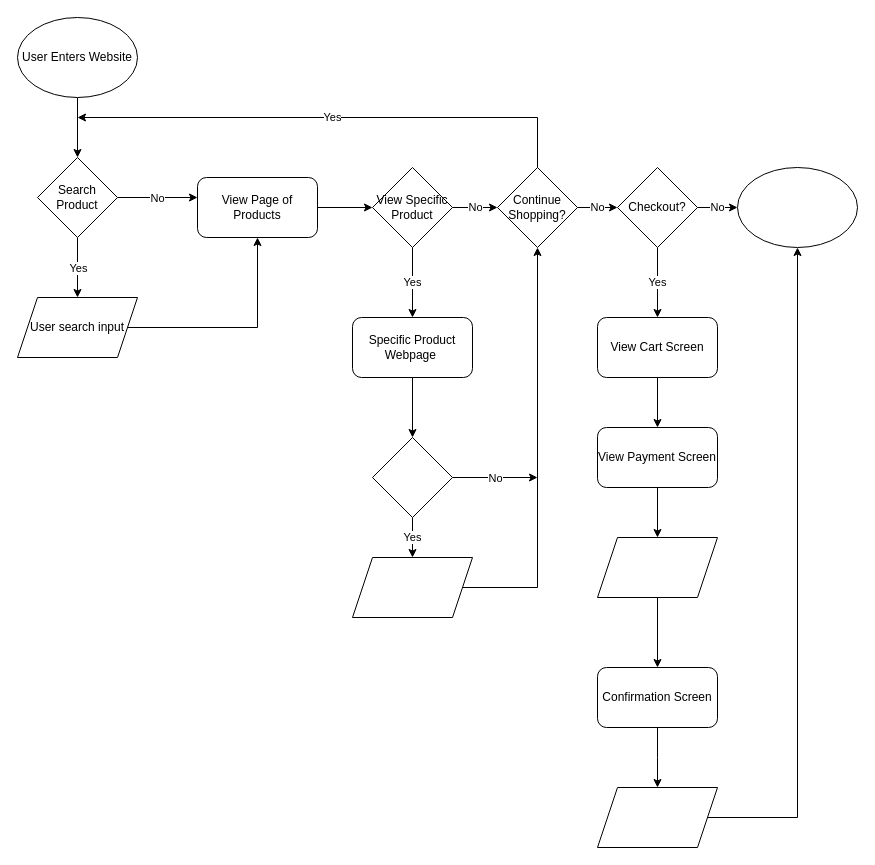
This 875x865 diagram has some shape labels left out. The centre of each missing label's shape, as x and y in pixels:
Add Item To Cart: (x=412, y=477)
Added to cart confirmation: (x=412, y=587)
Input Payment Info: (x=657, y=567)
Leave Website: (x=797, y=207)
Send confirmation email: (x=657, y=817)
